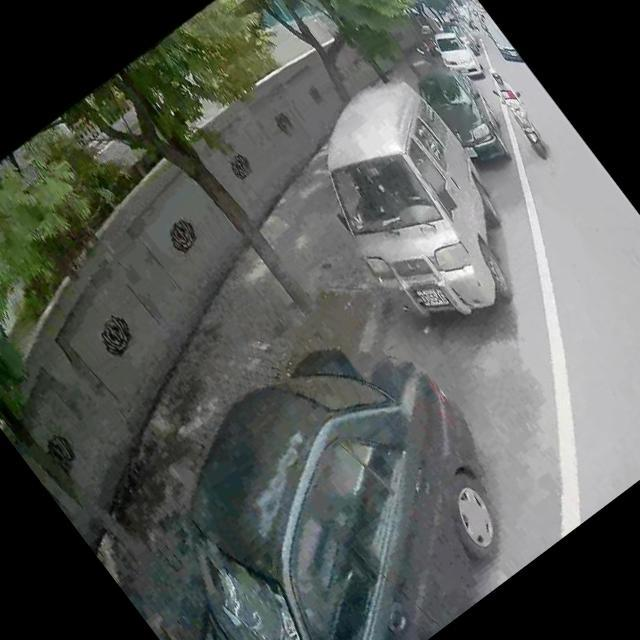person: (483, 67, 523, 112)
